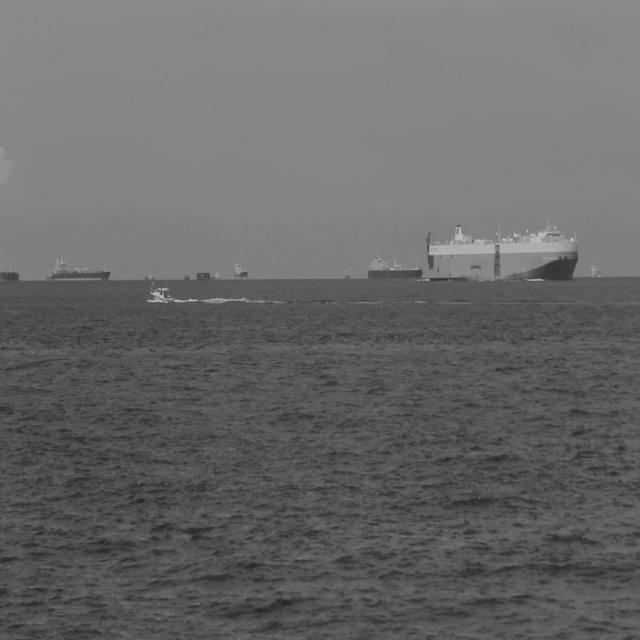ship: (426, 220, 578, 282), (45, 255, 112, 284), (366, 252, 424, 281), (149, 280, 175, 304), (232, 259, 249, 281), (0, 268, 20, 284), (195, 271, 211, 283), (144, 271, 156, 283), (182, 272, 190, 282), (213, 272, 221, 282)
